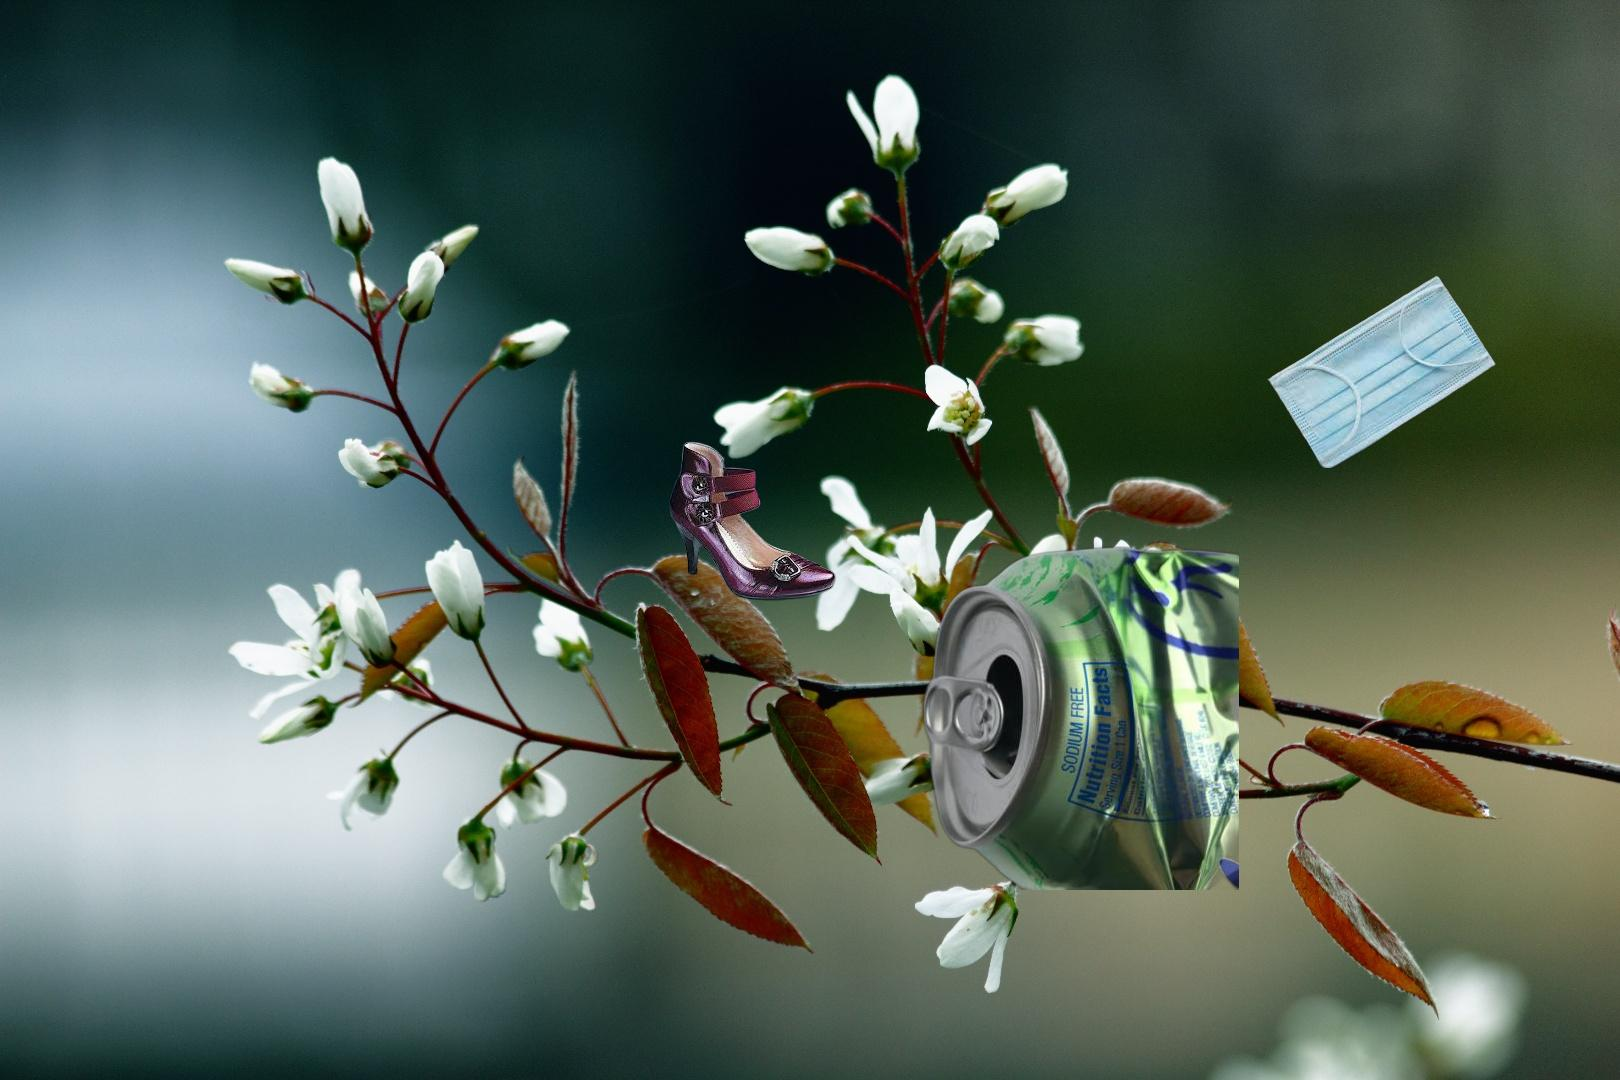metal-cans: (918, 542, 1239, 890)
shoes: (667, 438, 837, 603)
trash: (1264, 272, 1497, 468)
